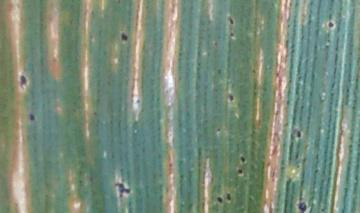tarspot: (113, 179, 133, 200), (16, 73, 29, 91), (295, 198, 308, 213), (118, 30, 131, 44), (287, 140, 294, 160), (326, 19, 337, 30), (226, 14, 236, 26), (334, 36, 341, 52), (294, 129, 303, 141), (331, 67, 339, 80), (332, 52, 340, 65), (215, 194, 224, 205), (226, 92, 235, 102), (49, 55, 60, 63), (239, 154, 247, 164), (211, 39, 219, 49), (225, 192, 233, 201), (329, 79, 336, 89), (236, 167, 244, 175), (227, 30, 235, 38), (166, 160, 174, 168), (29, 113, 36, 122), (274, 70, 281, 79), (312, 167, 320, 174), (287, 132, 295, 139), (297, 104, 306, 110), (294, 151, 300, 160), (215, 126, 222, 133), (216, 67, 222, 75), (284, 98, 290, 106), (301, 156, 307, 164), (135, 98, 141, 104), (91, 110, 98, 115), (89, 8, 94, 15), (251, 68, 256, 74), (320, 207, 325, 213), (116, 1, 121, 6)
